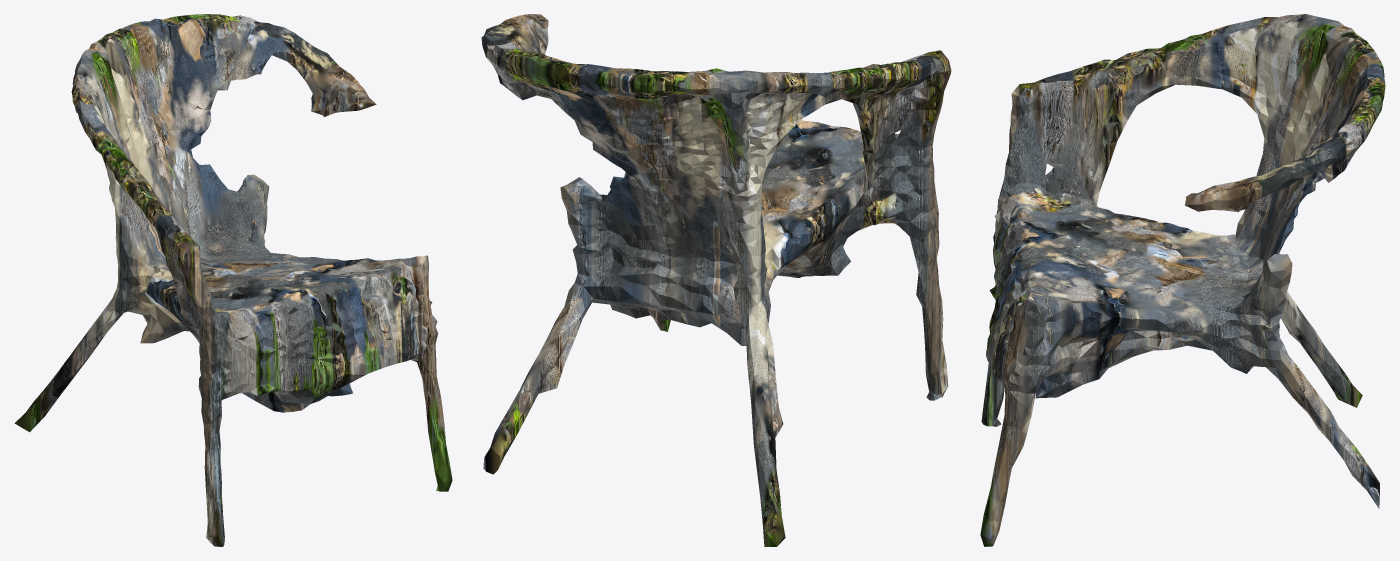
Rendered from broken chair.fbx.
3 renders of one model, left to right at view 1: azimuth 30°, elevation 25°; view 2: azimuth 150°, elevation 25°; view 3: azimuth 270°, elevation 25°, orthographic. The views are drawn at different scales.
Parts seen in each view (by area): view 1: imperfect_chair; view 2: imperfect_chair; view 3: imperfect_chair.
Boxes of the visible parts, x1=… form: imperfect_chair: x1=14, y1=14, x2=452, y2=546; imperfect_chair: x1=481, y1=14, x2=951, y2=546; imperfect_chair: x1=980, y1=14, x2=1385, y2=546.
Bounding box in the file's own units: 0.8722 × 1.1 × 0.9729.
1 material, 1 textured.
